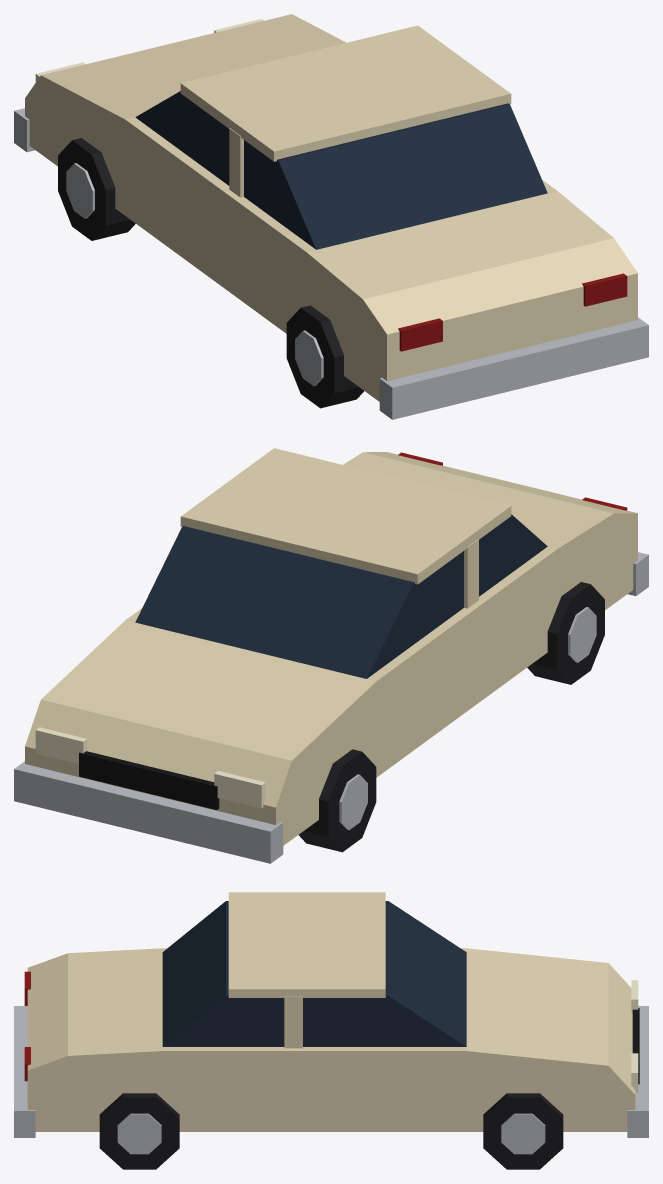
File: CarSedanCream.obj
The picture shows the model from 3 angles, top to bottom: view 1: azimuth 30°, elevation 25°; view 2: azimuth 150°, elevation 25°; view 3: azimuth 270°, elevation 25°; orthographic projection. The views are drawn at different scales.
Visible parts, largest first — view 1: CarSedanCream; view 2: CarSedanCream; view 3: CarSedanCream.
Boxes of the visible parts, x1=… form: CarSedanCream: x1=14, y1=14, x2=648, y2=419; CarSedanCream: x1=14, y1=448, x2=648, y2=863; CarSedanCream: x1=14, y1=892, x2=648, y2=1169.
Bounding box in the file's own units: 1.97 × 1.42 × 4.7.
1 material, 1 textured.
